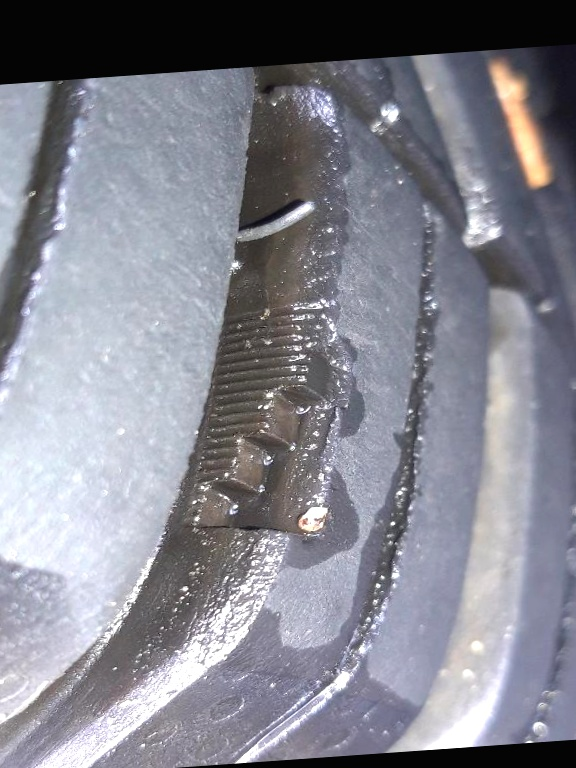temoin:80: (169, 302, 363, 553)
